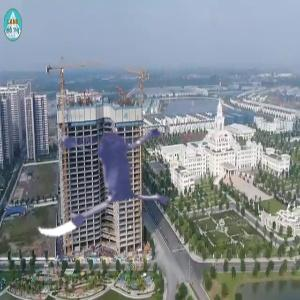drone: (8, 75, 192, 259)
